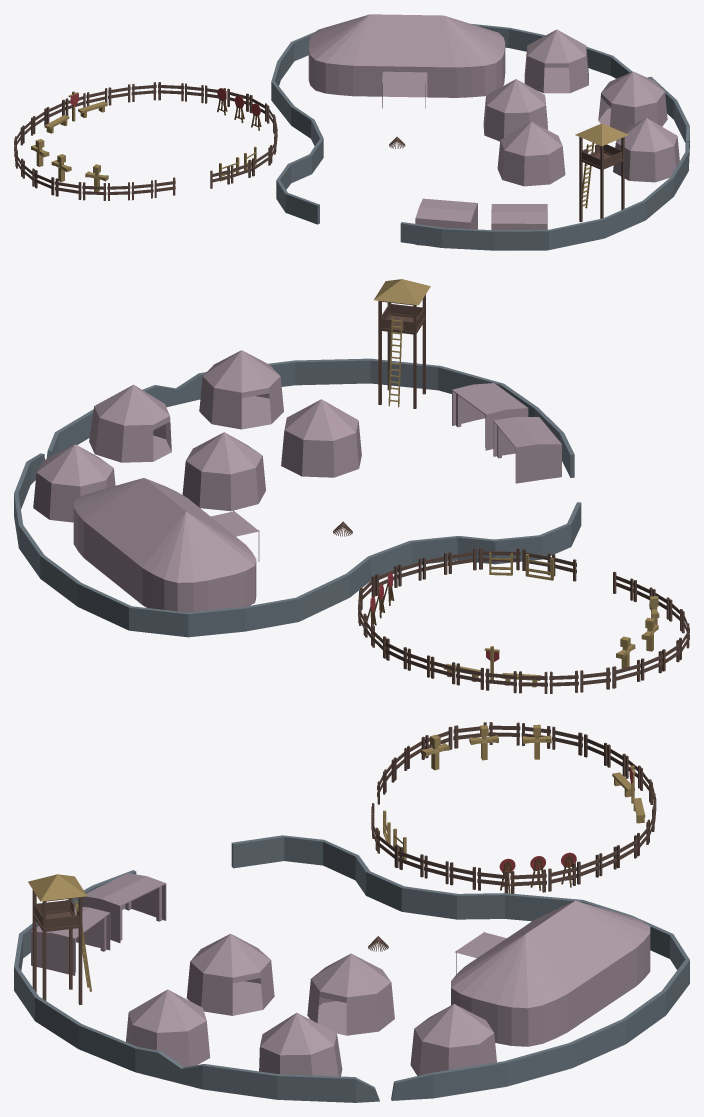
File: CampBlocking.fbx
3 views of the same model, one above another, from view 1: azimuth 30°, elevation 25°; view 2: azimuth 150°, elevation 25°; view 3: azimuth 270°, elevation 25° (orthographic). The views are drawn at different scales.
Parts seen in each view (by area): view 1: Casa chefe, Muro, cerca bloq array, casa 4, Casa 1, casa 2, casa 3, casa 5, Barraquinha 2, torre, Barraquinha 1, telhado torre; view 2: Muro, Casa chefe, cerca bloq array, casa 2, casa 5, casa 3, casa 4, Casa 1, Barraquinha 2, Barraquinha 1, torre, telhado torre; view 3: Muro, Casa chefe, cerca bloq array, casa 4, casa 5, casa 2, Casa 1, casa 3, Barraquinha 2, torre, Barraquinha 1, telhado torre.
Part boxes in pixels (<box>): Casa chefe: <box>308,14,505,108</box>; Muro: <box>271,23,689,250</box>; cerca bloq array: <box>14,82,277,200</box>; casa 4: <box>497,122,565,186</box>; Casa 1: <box>524,29,588,93</box>; casa 2: <box>613,118,679,182</box>; casa 3: <box>598,71,667,131</box>; casa 5: <box>483,79,547,141</box>; Barraquinha 2: <box>415,198,477,245</box>; torre: <box>579,137,624,222</box>; Barraquinha 1: <box>491,204,547,250</box>; telhado torre: <box>575,123,628,146</box>; Muro: <box>14,358,581,637</box>; Casa chefe: <box>73,478,259,612</box>; cerca bloq array: <box>358,547,689,693</box>; casa 2: <box>199,350,283,429</box>; casa 5: <box>182,432,265,511</box>; casa 3: <box>89,384,171,462</box>; casa 4: <box>281,399,361,477</box>; Casa 1: <box>33,444,115,522</box>; Barraquinha 2: <box>493,417,561,483</box>; Barraquinha 1: <box>452,383,528,450</box>; torre: <box>378,294,425,408</box>; telhado torre: <box>374,279,430,305</box>; Muro: <box>14,835,689,1102</box>; Casa chefe: <box>451,900,650,1046</box>; cerca bloq array: <box>371,722,656,893</box>; casa 4: <box>186,933,274,1015</box>; casa 5: <box>307,953,394,1035</box>; casa 2: <box>126,989,210,1066</box>; Casa 1: <box>410,1004,496,1075</box>; casa 3: <box>259,1012,342,1076</box>; Barraquinha 2: <box>82,873,166,942</box>; torre: <box>32,890,82,1004</box>; Barraquinha 1: <box>31,906,110,975</box>; telhado torre: <box>28,874,86,901</box>.
Bounding box in the file's own units: 4081 × 716 × 3337.
